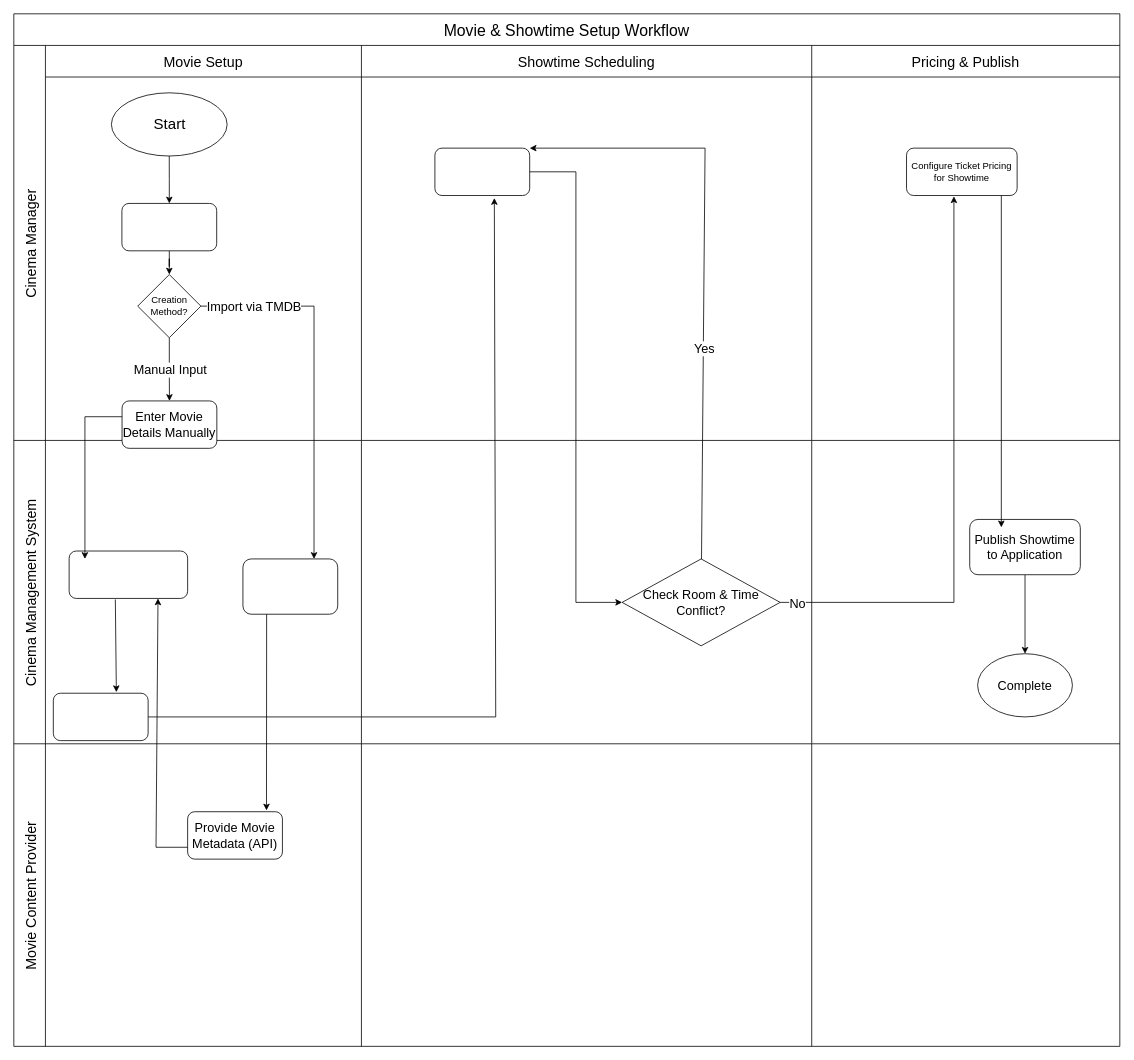
Some shapes in this 1134 by 1060 pixel diagram are drawn without their labels. Each missing label, with the box of its shape:
Create Showtime Schedule: (434, 147, 530, 196)
Manage Movie Information: (121, 203, 217, 251)
Request Movie via TMDB ID: (242, 558, 338, 614)
Review & Edit Movie Metadata: (68, 550, 188, 598)
Save Movie Record: (53, 692, 148, 741)
